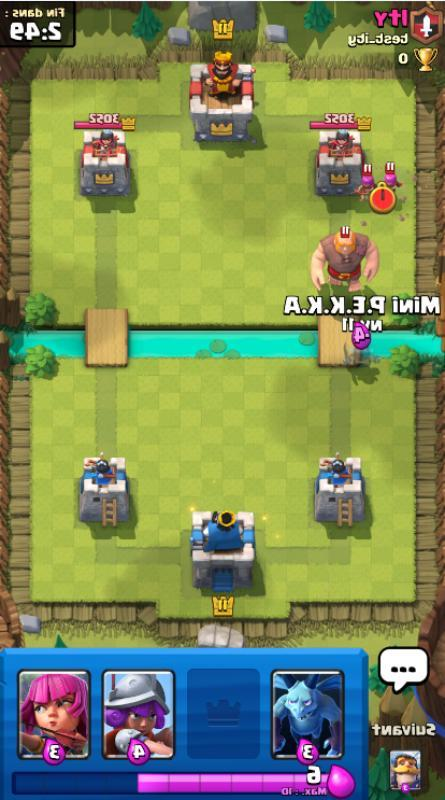archere: (349, 163, 377, 202), (384, 161, 403, 193)
geant: (311, 225, 380, 292)
mini_PEKKA: (342, 342, 382, 368)
